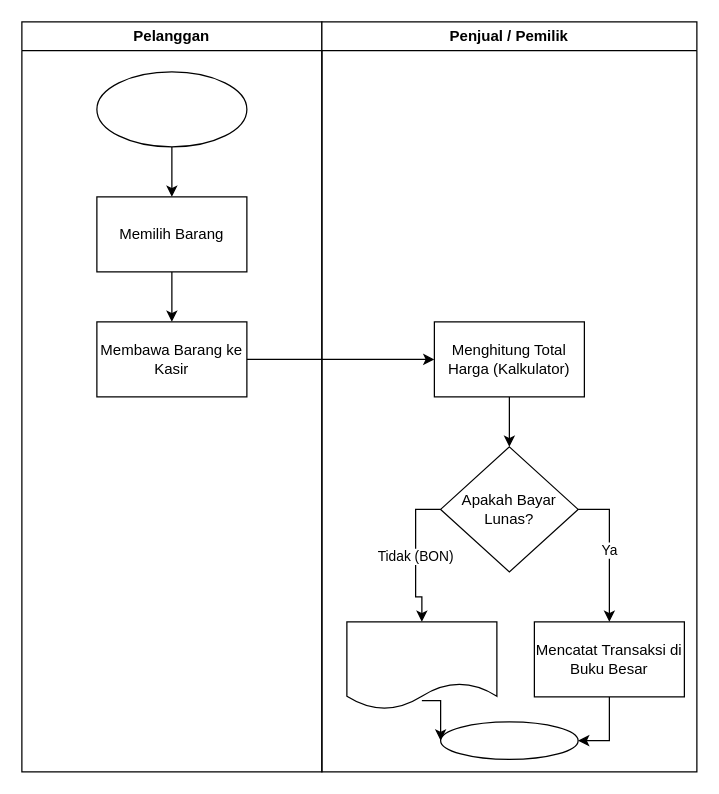
The diagram is 719 pixels wide and 794 high, and some of its shapes have lost their labels. The centre of each missing label's shape, as x and y in pixels:
"Mencatat di Buku BON (Utang)" belongs at point (421, 665).
"Mulai" belongs at point (171, 109).
"Selesai" belongs at point (508, 740).
